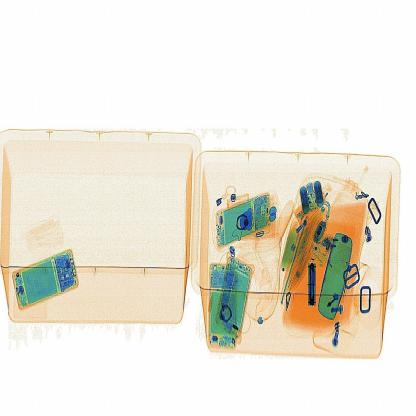scissors: (302, 257, 324, 306)
